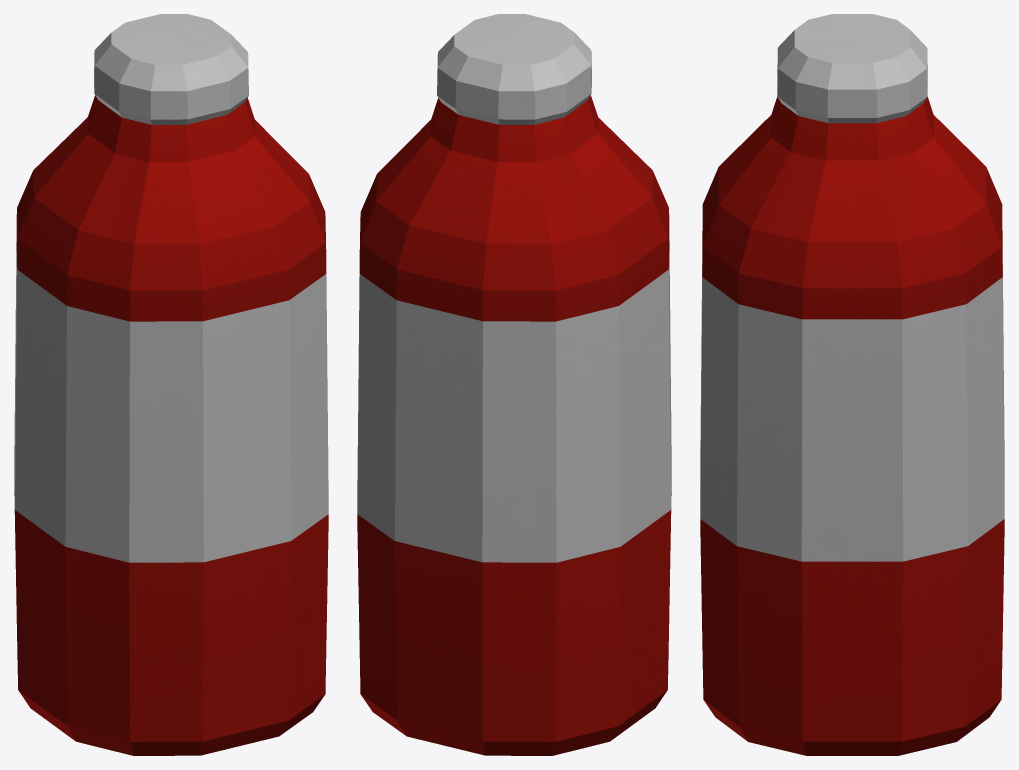
The model's file is small_bottle_tall_2.fbx.
3 renders of one model, left to right at view 1: azimuth 30°, elevation 25°; view 2: azimuth 150°, elevation 25°; view 3: azimuth 270°, elevation 25°, orthographic.
Parts seen in each view (by area): view 1: small_bottle_tall_2; view 2: small_bottle_tall_2; view 3: small_bottle_tall_2.
Part boxes in pixels (bbox=[...]): small_bottle_tall_2: bbox=[14, 14, 328, 755]; small_bottle_tall_2: bbox=[357, 14, 671, 755]; small_bottle_tall_2: bbox=[700, 14, 1004, 755].
Bounding box in the file's own units: 0.0747 × 0.1784 × 0.0747.
